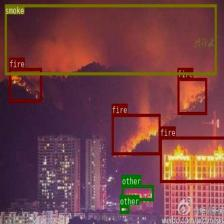fire: (159, 136, 224, 182), (112, 113, 160, 155), (9, 67, 41, 102), (177, 77, 207, 114)
smoke: (4, 4, 216, 74)
